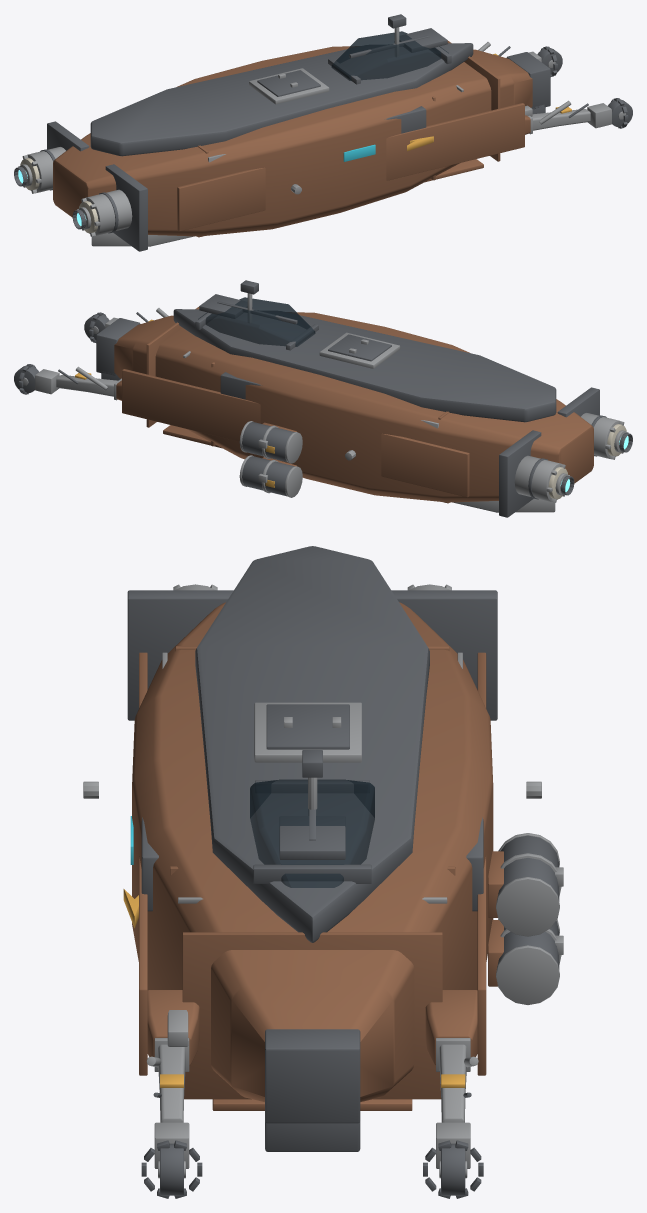
Rendered from pelican_production_v1_lod0.glb.
3 views of the same model, one above another, from view 1: azimuth 30°, elevation 25°; view 2: azimuth 150°, elevation 25°; view 3: azimuth 270°, elevation 25° (orthographic). The views are drawn at different scales.
Parts seen in each view (by area): view 1: LOD0_Hull, LOD0_Armor, LOD0_Mechanical, LOD0_Canopy, LOD0_Ceramic, LOD0_Accent; view 2: LOD0_Hull, LOD0_Armor, LOD0_Mechanical, LOD0_Canopy, LOD0_Ceramic; view 3: LOD0_Armor, LOD0_Hull, LOD0_Mechanical, LOD0_Canopy, LOD0_Warning.
Part boxes in pixels (x1=…): LOD0_Hull: x1=53, y1=40, x2=532, y2=237; LOD0_Armor: x1=14, y1=14, x2=632, y2=251; LOD0_Mechanical: x1=18, y1=27, x2=625, y2=246; LOD0_Canopy: x1=331, y1=31, x2=448, y2=80; LOD0_Ceramic: x1=20, y1=158, x2=98, y2=233; LOD0_Accent: x1=343, y1=144, x2=375, y2=161; LOD0_Hull: x1=114, y1=306, x2=593, y2=503; LOD0_Armor: x1=14, y1=280, x2=632, y2=517; LOD0_Mechanical: x1=21, y1=293, x2=628, y2=512; LOD0_Canopy: x1=198, y1=297, x2=315, y2=346; LOD0_Ceramic: x1=548, y1=424, x2=626, y2=499; LOD0_Armor: x1=127, y1=546, x2=559, y2=1198; LOD0_Hull: x1=132, y1=602, x2=503, y2=1110; LOD0_Mechanical: x1=83, y1=584, x2=563, y2=1178; LOD0_Canopy: x1=250, y1=779, x2=374, y2=887; LOD0_Warning: x1=123, y1=889, x2=465, y2=1087.
Size of what is drawn, in the model's own units: 14.55 by 3.94 by 5.53.
